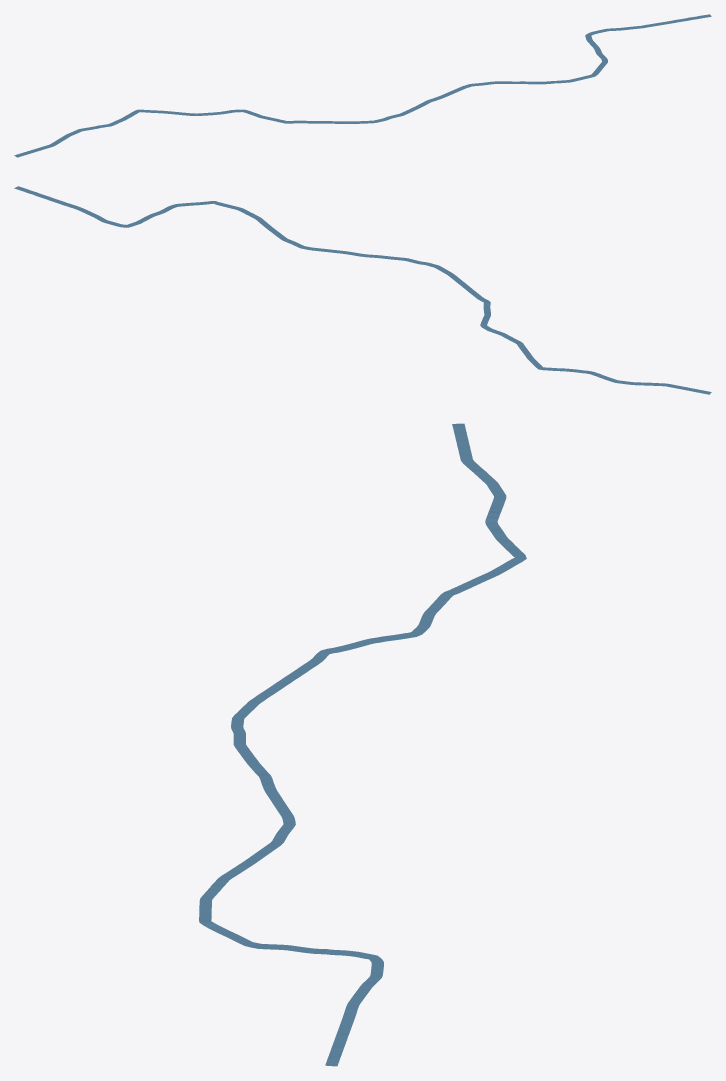
File: c_1632_17832_water.glb
3 renders of one model, top to bottom at view 1: azimuth 30°, elevation 25°; view 2: azimuth 150°, elevation 25°; view 3: azimuth 270°, elevation 25°, orthographic. The views are drawn at different scales.
Visible parts, largest first — view 1: geometry_0; view 2: geometry_0; view 3: geometry_0.
Part boxes in pixels (x1,y1,x2,y2): geometry_0: (14,14,711,157); geometry_0: (14,186,711,394); geometry_0: (199,423,526,1066).
Bounding box in the file's own units: 1484 × 5.57 × 317.
